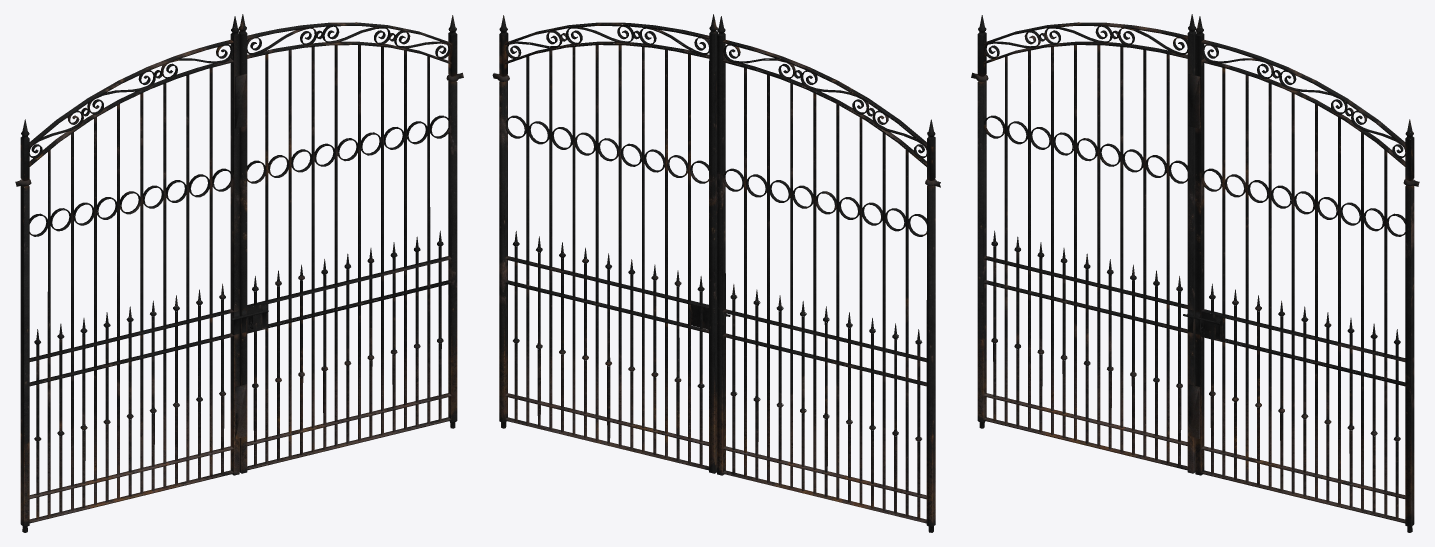
Rendered from ph_large_iron_gate.glb.
3 renders of one model, left to right at view 1: azimuth 30°, elevation 25°; view 2: azimuth 150°, elevation 25°; view 3: azimuth 330°, elevation 25°, orthographic.
Visible parts, largest first — view 1: large_iron_gate_right_door, large_iron_gate_left_door; view 2: large_iron_gate_left_door, large_iron_gate_right_door; view 3: large_iron_gate_right_door, large_iron_gate_left_door.
Boxes of the visible parts, left/top/right/bottom form: large_iron_gate_right_door: left=235, top=14, right=457, bottom=473; large_iron_gate_left_door: left=20, top=16, right=240, bottom=532; large_iron_gate_left_door: left=717, top=16, right=935, bottom=532; large_iron_gate_right_door: left=499, top=14, right=717, bottom=473; large_iron_gate_right_door: left=1188, top=16, right=1414, bottom=532; large_iron_gate_left_door: left=977, top=14, right=1196, bottom=473.
Size of what is drawn, in the model's own units: 2.95 by 2.93 by 0.0977.
1 material, 1 textured.
